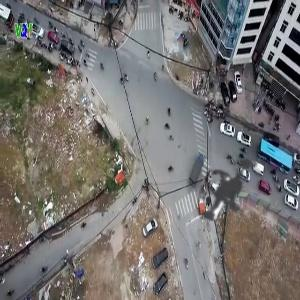drone: (149, 116, 298, 265)
